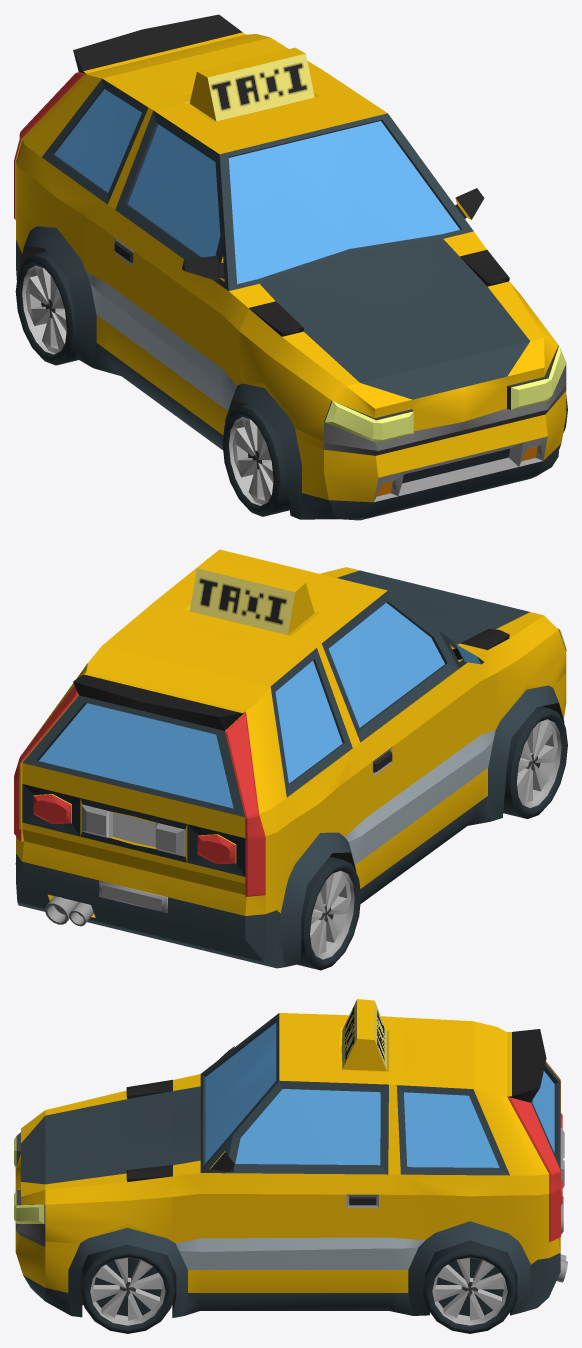
Rendered from TaxiCar.fbx.
The picture shows the model from 3 angles, top to bottom: view 1: azimuth 30°, elevation 25°; view 2: azimuth 150°, elevation 25°; view 3: azimuth 270°, elevation 25°; orthographic projection. The views are drawn at different scales.
Visible parts, largest first — view 1: Hatch-Car, Hatch-CarWheelFrontR, Hatch-CarWheelBackR; view 2: Hatch-Car, Hatch-CarWheelFrontR, Hatch-CarWheelBackR; view 3: Hatch-Car, Hatch-CarWheelBackL, Hatch-CarWheelFrontL.
Part boxes in pixels (x1=…): Hatch-Car: x1=14, y1=14, x2=566, y2=520; Hatch-CarWheelFrontR: x1=222, y1=404, x2=289, y2=516; Hatch-CarWheelBackR: x1=15, y1=251, x2=78, y2=365; Hatch-Car: x1=14, y1=549, x2=566, y2=968; Hatch-CarWheelFrontR: x1=503, y1=706, x2=567, y2=818; Hatch-CarWheelBackR: x1=297, y1=856, x2=361, y2=970; Hatch-Car: x1=14, y1=999, x2=567, y2=1317; Hatch-CarWheelBackL: x1=423, y1=1240, x2=516, y2=1333; Hatch-CarWheelFrontL: x1=81, y1=1244, x2=174, y2=1333.
Size of the model in its own units: 4.67 by 4.63 by 9.03.
